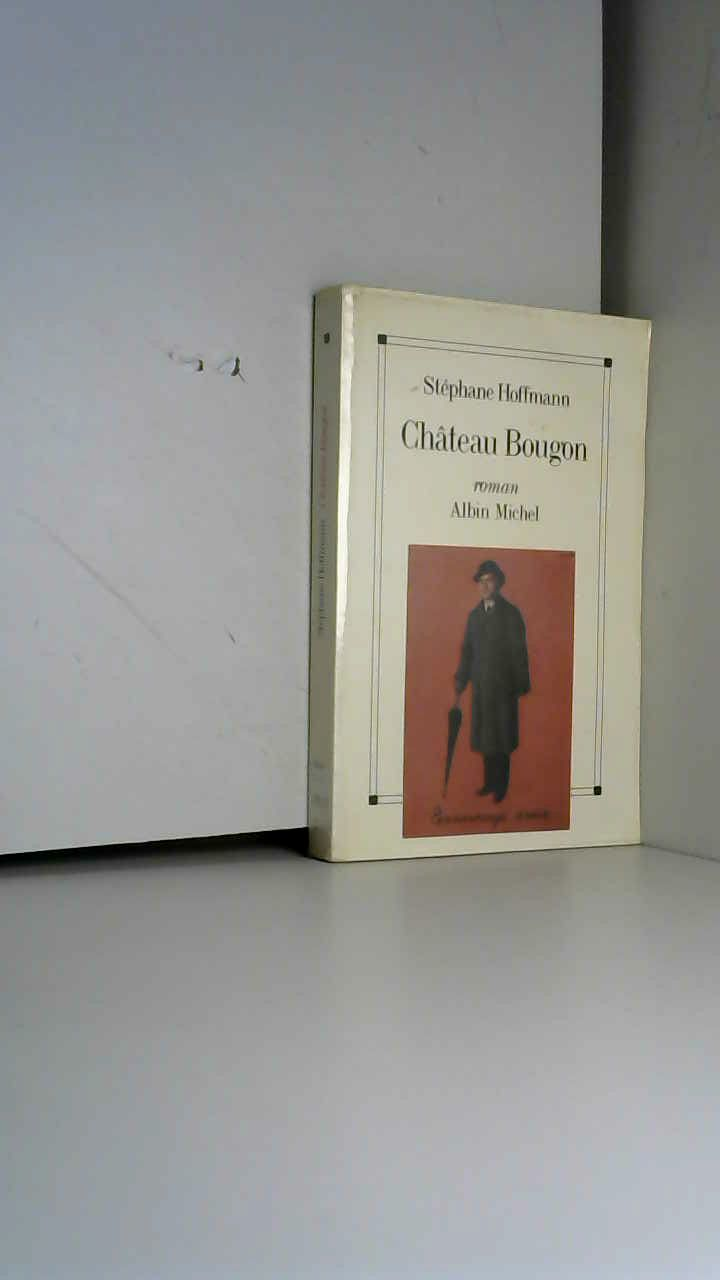book: (280, 260, 720, 898)
